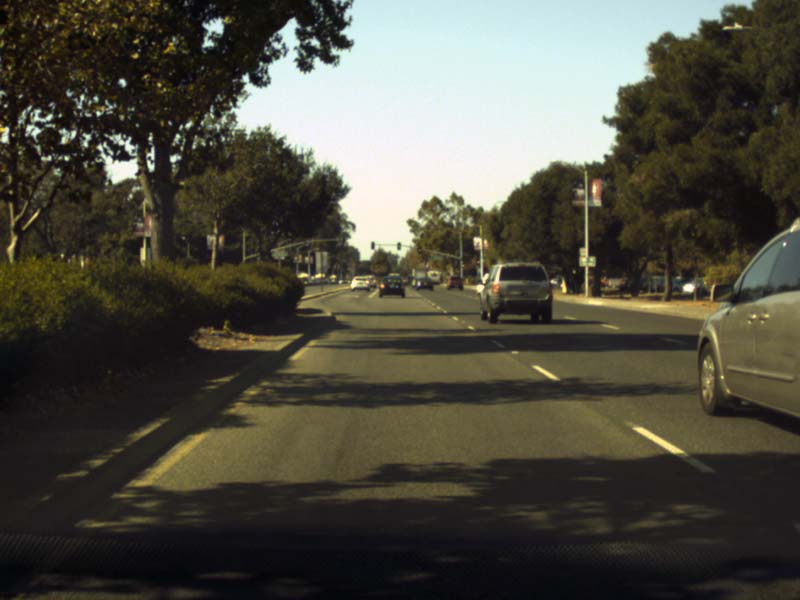Yellow: (417, 247, 421, 253), (476, 258, 479, 264)
